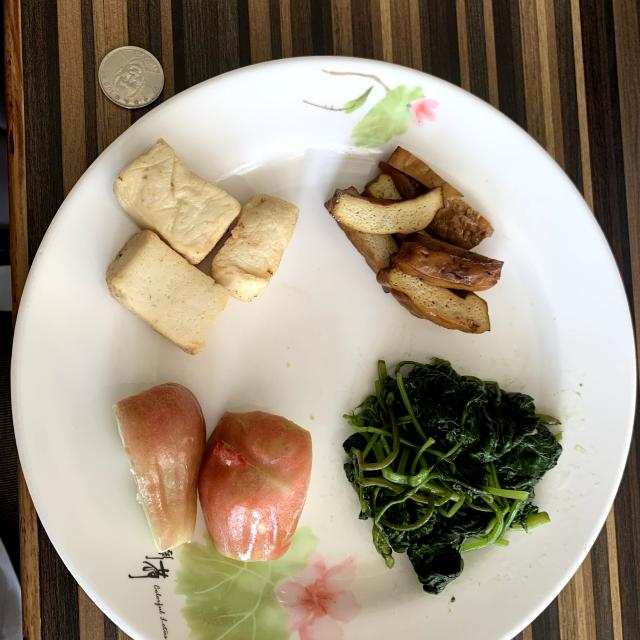coin: (99, 46, 164, 109)
creamy tofu -without sauce-: (106, 139, 299, 354)
firm tofu: (325, 148, 502, 332)
sweet potato leaves: (344, 359, 562, 594)
